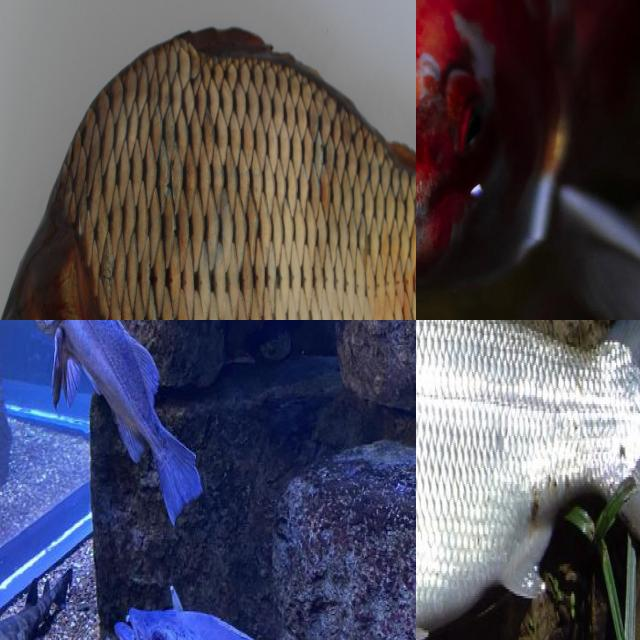fish: (0, 0, 416, 320), (416, 0, 640, 320), (416, 320, 640, 640)
